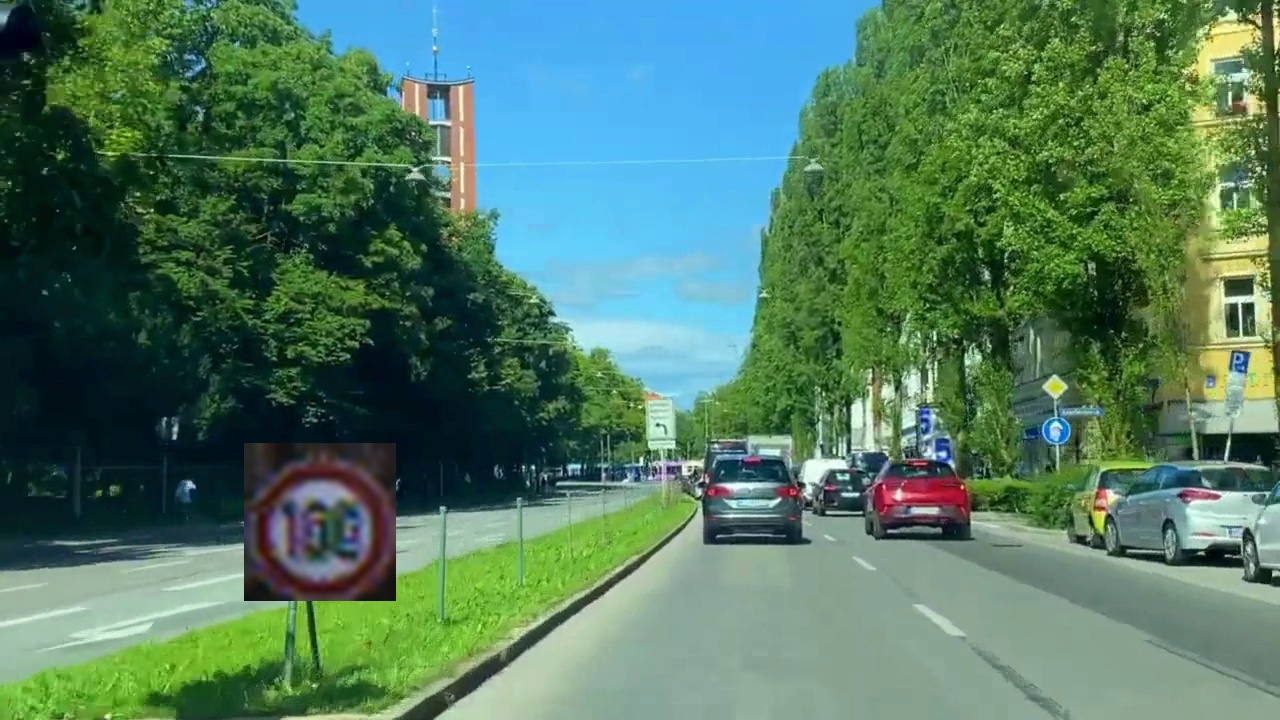Speed 100: (244, 443, 396, 601)
